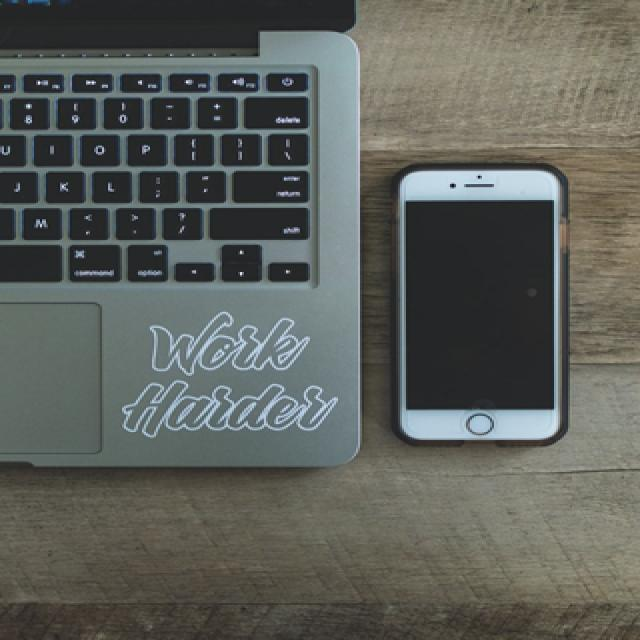cellphone: (390, 162, 570, 446)
